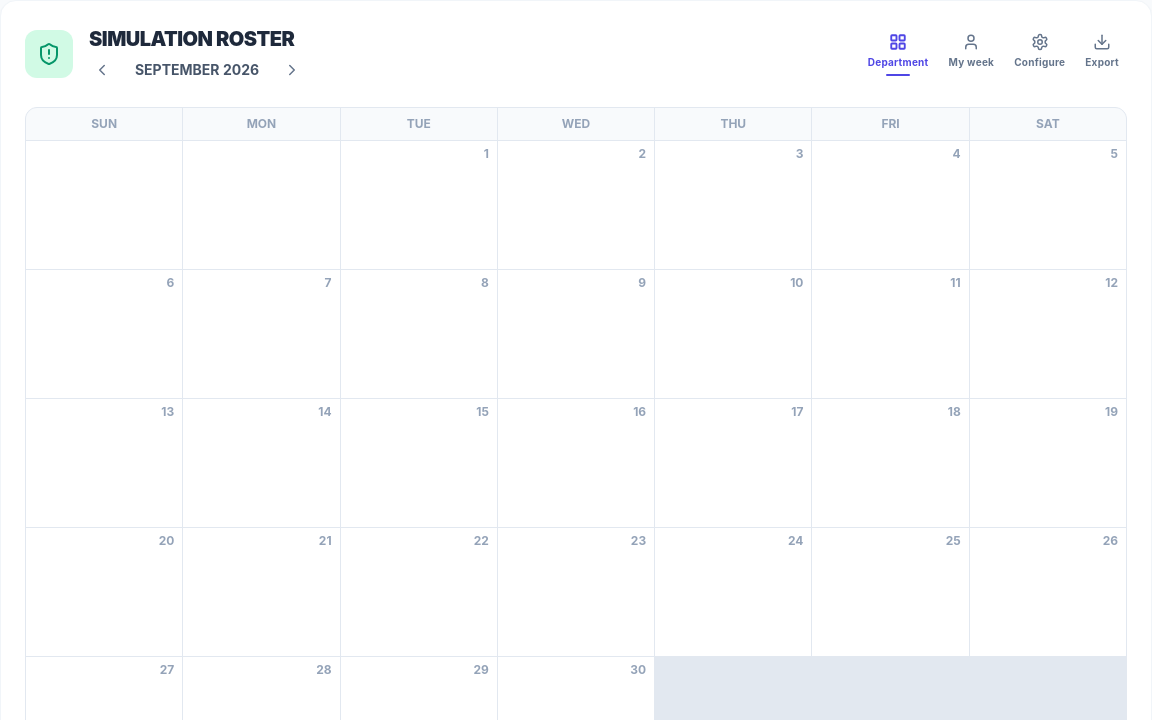
Test: the nine controls are on screen in the sandbox wizard › keeps every new task control BEHIND the row disclosure, closed by default
Click the button "Configure".
click(1040, 54)  # box [1006,26,1073,82]
(page scrolled)
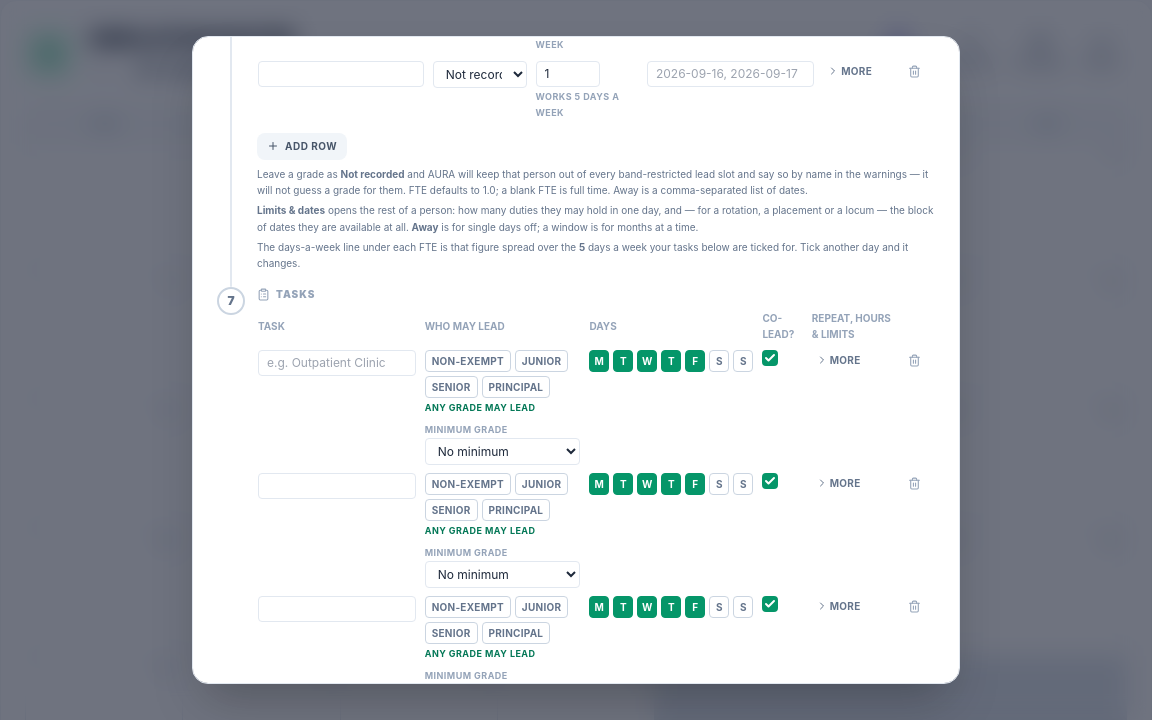
Click the 2nd button "More".
click(838, 360)  # box [812,350,864,370]
(page scrolled)
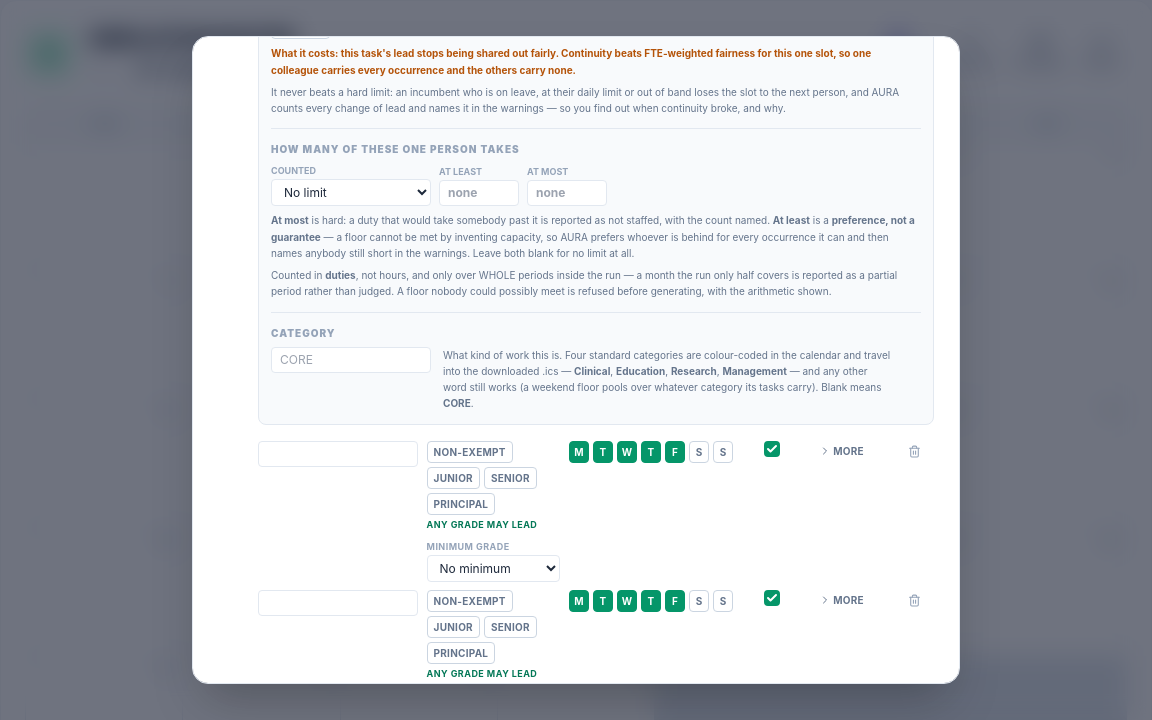
Now the field named "Task row 1 per-person minimum" is shown, box [439,180,519,206]
Now the field named "Task row 1 category" is shown, box [271,347,431,373]
